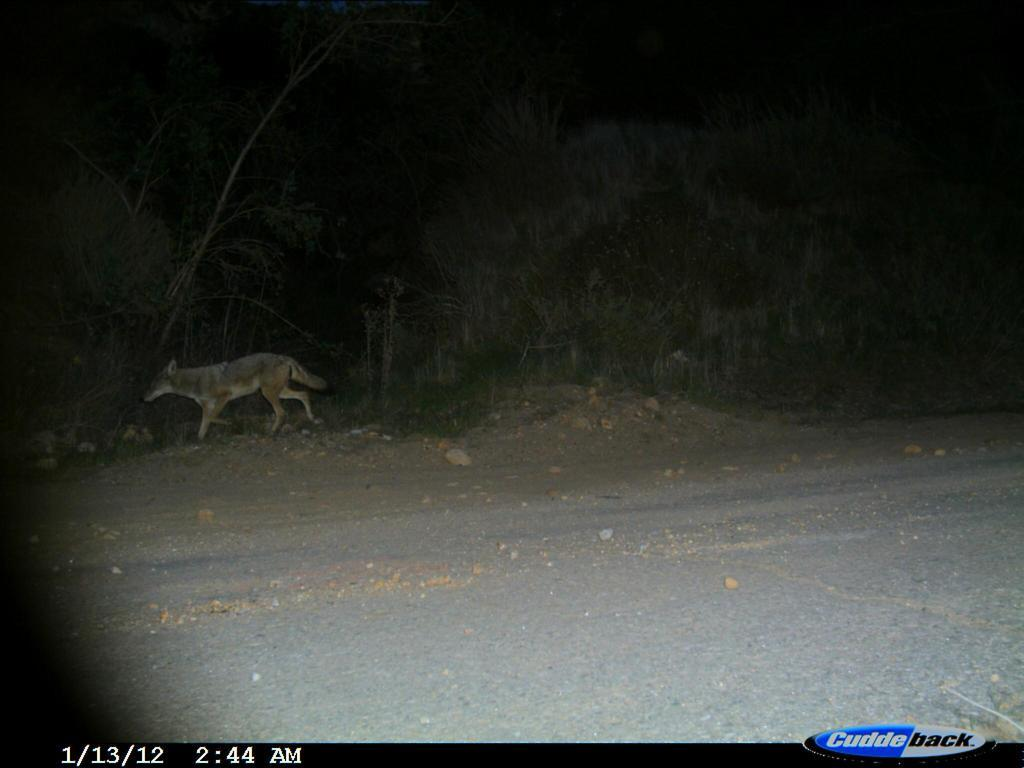coyote: (137, 349, 345, 443)
